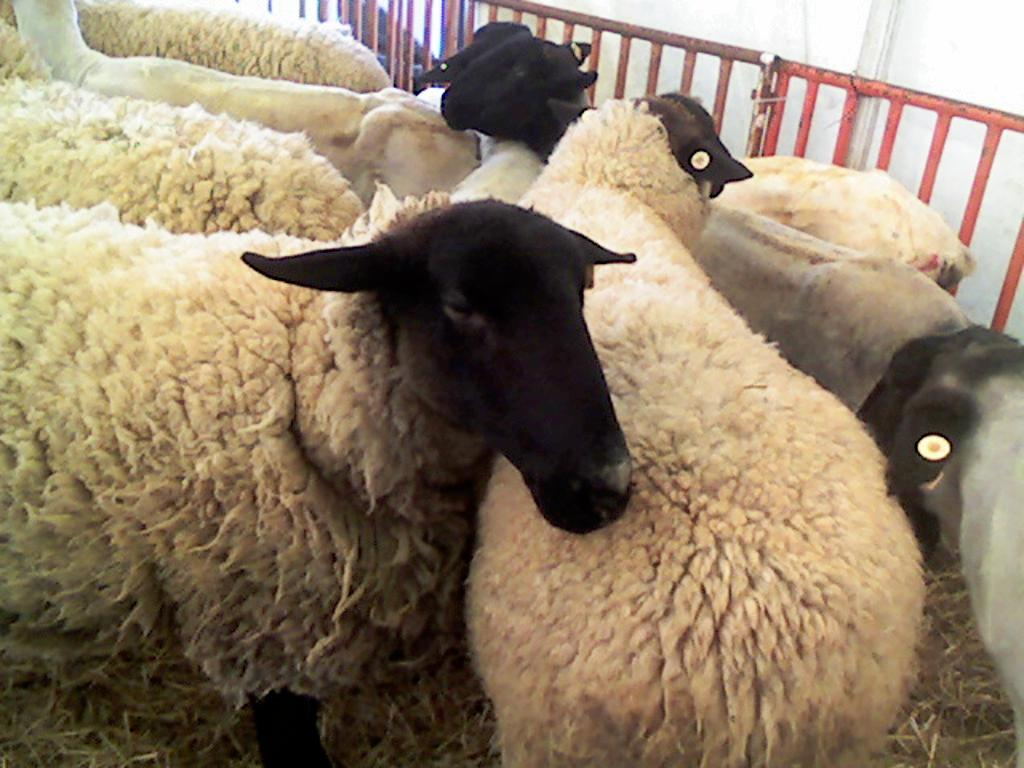Sheep: (0, 202, 638, 676), (502, 91, 932, 730), (424, 7, 992, 284)
